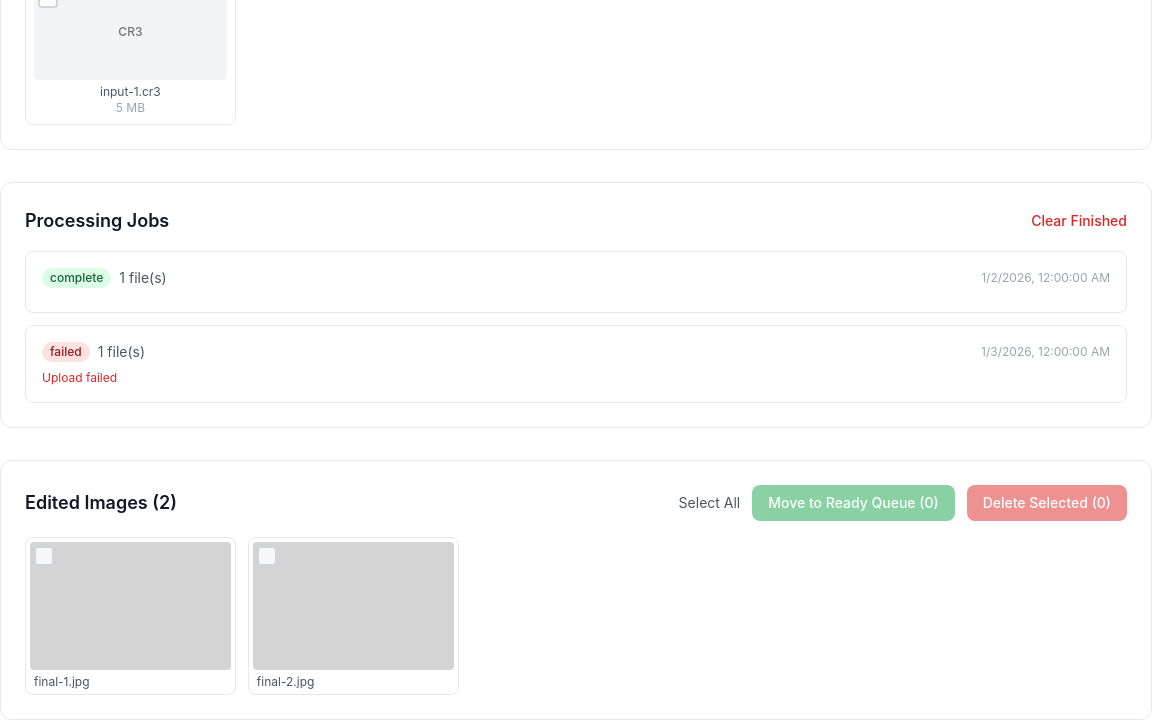
ImagenEditor › selects all edited images and approves them
The image size is (1152, 720).
(page scrolled)
Check: the heading "Edited Images (2)" is shown, box [25, 489, 177, 517]
Click the button "Select All": [709, 503] box [679, 493, 740, 513]
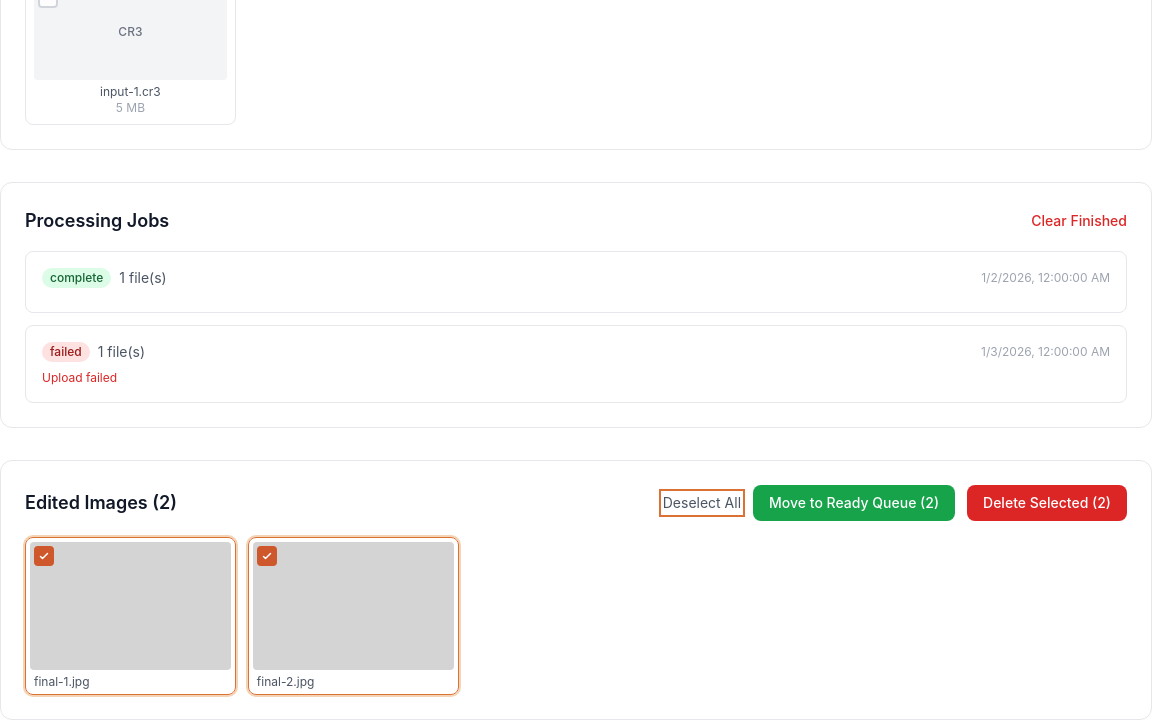
Click the button "Move to Ready Queue (2)": [854, 503] box [753, 485, 955, 521]
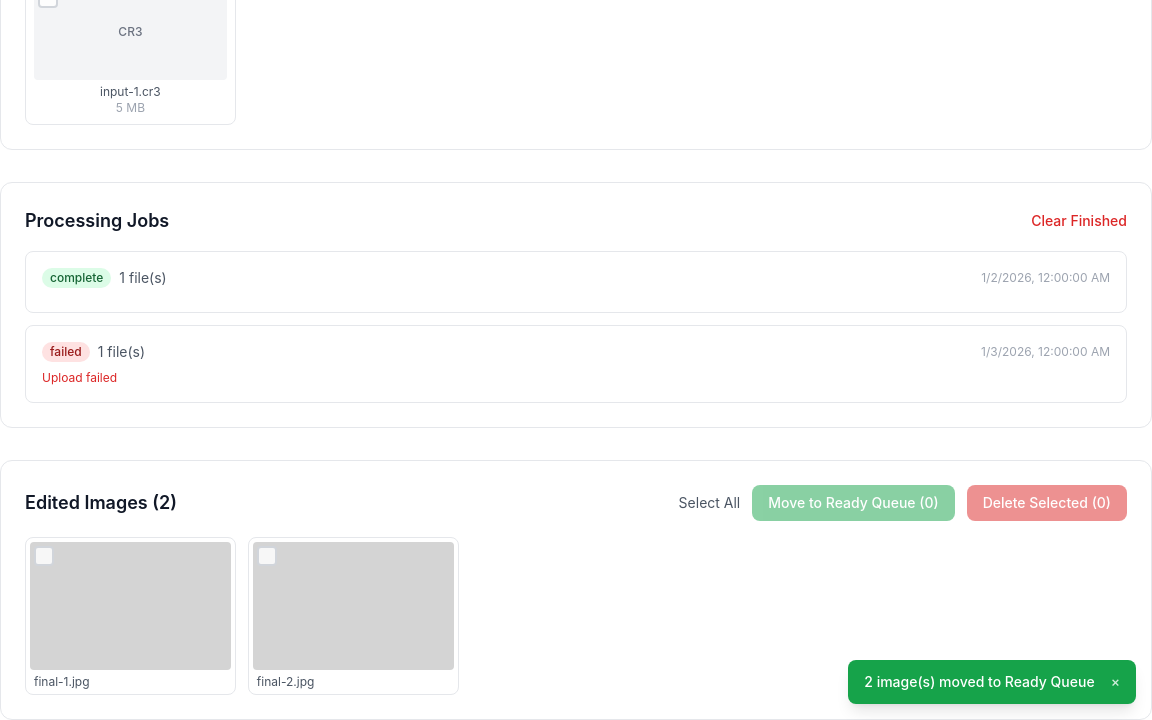
Check: the message shows "2 image(s) moved to Ready Queue", box [864, 673, 1095, 690]
